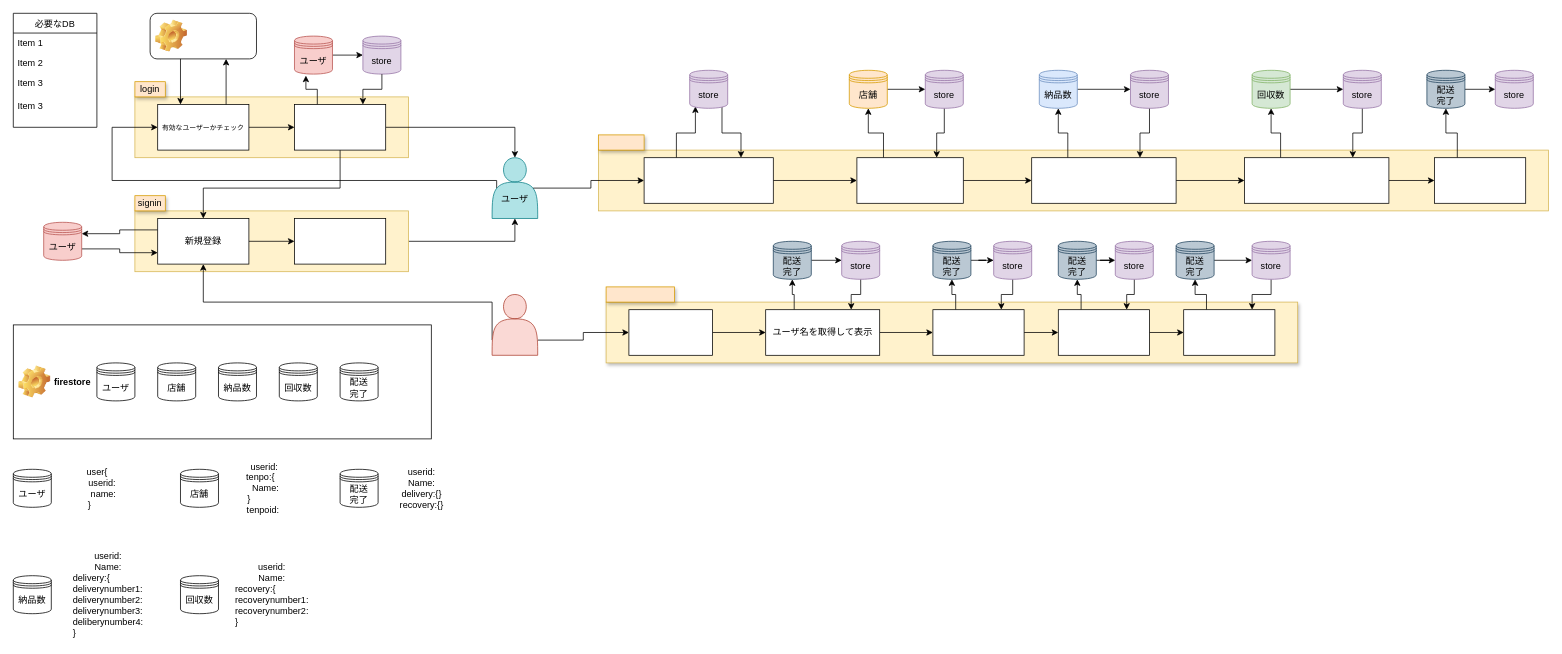
The diagram is 1562 pixels wide and 654 high, and some of its shapes have lost their labels. The centre of each missing label's shape, as x and y in pixels:
auth: the point at 202,36
welcome: the point at 340,241
ユーザのIDから名前を取得: the point at 708,180
ユーザ情報の取得: the point at 340,127
回収数を取得して 表示: the point at 1229,332
店舗情報を取得: the point at 909,180
店舗情報を取得して表示: the point at 978,332
店舗選択: the point at 622,143
日付取得: the point at 670,332
管理者: the point at 514,324
管理者画面: the point at 640,295
納品数を取得して 表示: the point at 1104,332
色ごと（２色）に回収数を入力: the point at 1316,180
色ごと（４色）に納品数を入力: the point at 1103,180
送信: the point at 1480,180
